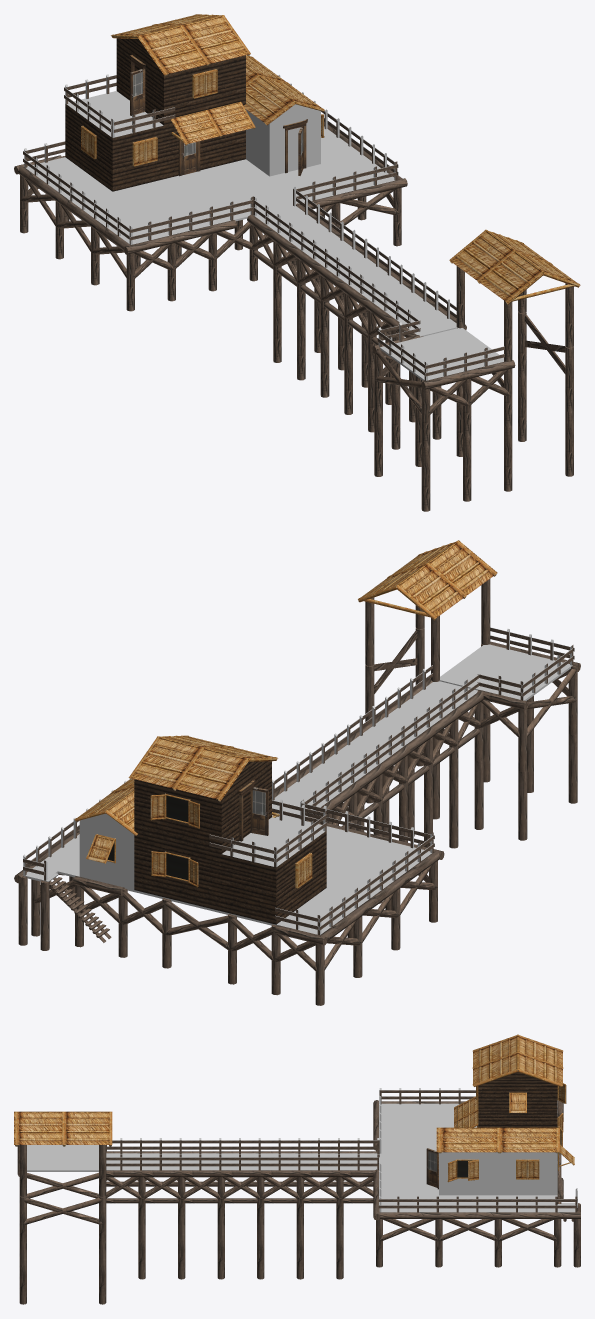
The model's file is Trapiche.fbx.
3 renders of one model, top to bottom at view 1: azimuth 30°, elevation 25°; view 2: azimuth 150°, elevation 25°; view 3: azimuth 270°, elevation 25°, orthographic. The views are drawn at different scales.
Visible parts, largest first — view 1: ParedesCasa, TelhadoPalha1 (×7), PisoCasa, PisoPonte1 (×7), PisoTrapiche, PilastraVertical68 (×2), PilastraVertical75, PilastraVertical78, PilastraVertical77, PilastraVertical79, PilastraVertical53; view 2: ParedesCasa, TelhadoPalha1 (×6), PisoCasa, PisoPonte1 (×6), PisoTrapiche, PilastraVertical75, PilastraVertical68 (×2), Porta, PilastraVertical74, PilastraVertical54, PilastraVertical53, PilastraVertical73 (+6 smaller); view 3: TelhadoPalha1 (×6), ParedesCasa, PisoCasa, PisoPonte1 (×7), PilastraVertical67 (×6), PisoTrapiche, PilastraVertical76, PilastraVertical70 (×2), PilastraVertical72 (×2), Porta, PilastraVertical48, PilastraVertical47 (+8 smaller).
Boxes of the visible parts, x1,y1,x2,y2 form: ParedesCasa: (65, 38, 320, 191); TelhadoPalha1 (×7): (111, 14, 580, 302); PisoCasa: (26, 126, 394, 244); PisoPonte1 (×7): (253, 205, 457, 336); PisoTrapiche: (380, 328, 503, 380); PilastraVertical68 (×2): (320, 331, 400, 449); PilastraVertical75: (18, 165, 130, 250); PilastraVertical78: (123, 220, 236, 254); PilastraVertical77: (296, 178, 407, 209); PilastraVertical79: (421, 360, 515, 389); PilastraVertical53: (421, 445, 430, 511); ParedesCasa: (79, 761, 326, 924); TelhadoPalha1 (×6): (74, 540, 497, 834); PisoCasa: (38, 815, 431, 934); PisoPonte1 (×6): (286, 681, 477, 801); PisoTrapiche: (439, 644, 572, 700); PilastraVertical75: (320, 850, 439, 944); PilastraVertical68 (×2): (449, 759, 483, 848); Porta: (250, 787, 268, 835); PilastraVertical74: (40, 880, 49, 950); PilastraVertical54: (518, 770, 527, 840); PilastraVertical53: (568, 734, 577, 803); PilastraVertical73: (18, 876, 27, 945); TelhadoPalha1 (×6): (14, 1034, 563, 1152); ParedesCasa: (439, 1070, 557, 1195); PisoCasa: (379, 1103, 557, 1212); PisoPonte1 (×7): (106, 1153, 379, 1170); PilastraVertical67 (×6): (138, 1224, 343, 1279); PisoTrapiche: (27, 1144, 98, 1171); PilastraVertical76: (376, 1212, 580, 1218); PilastraVertical70 (×2): (23, 1172, 102, 1224); PilastraVertical72 (×2): (23, 1173, 102, 1224); Porta: (426, 1148, 437, 1187); PilastraVertical48: (99, 1249, 106, 1304); PilastraVertical47: (19, 1249, 26, 1304).
Bounding box in the file's own units: 13.63 × 11.89 × 28.66.
